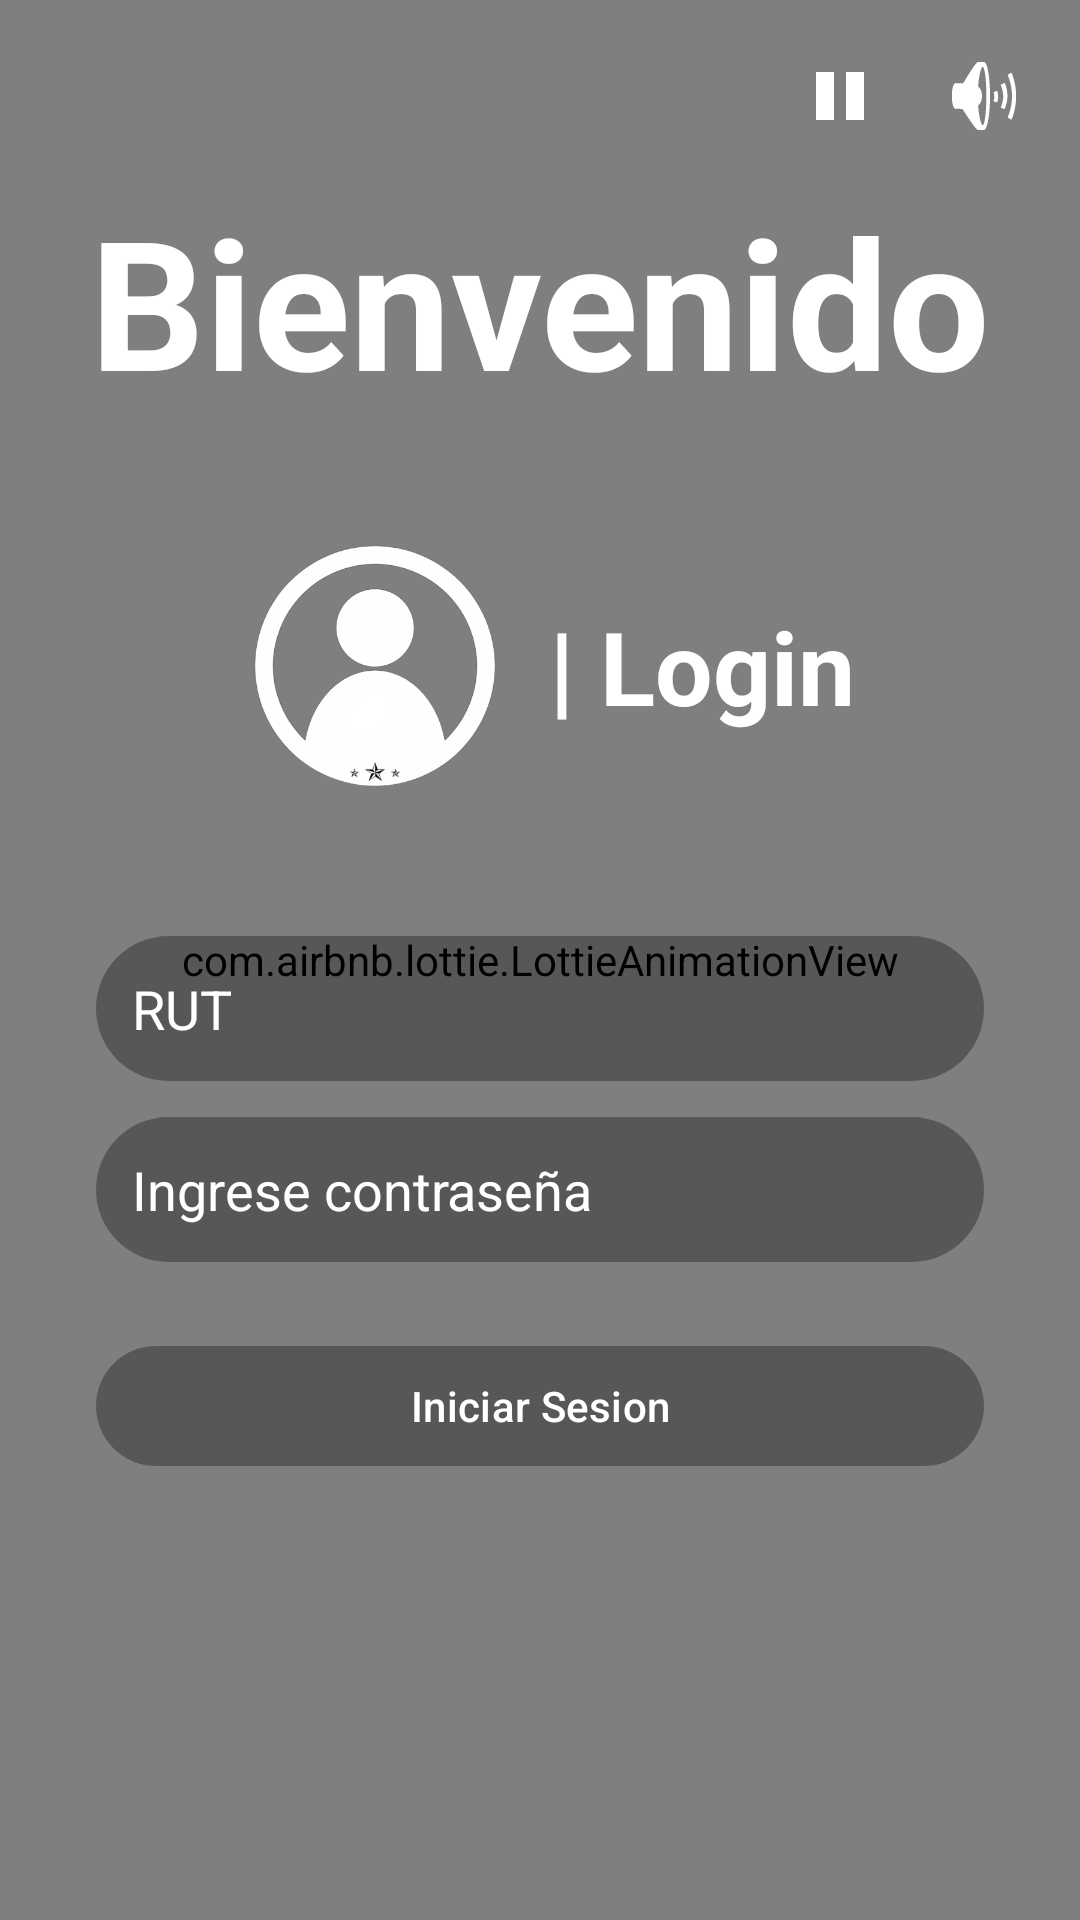

Where to tap for icons on this 1080 × 1920 app screen, as [x,y]:
lock silent mode off: [984,96]
pause: [840,96]
perfil: [375,666]
